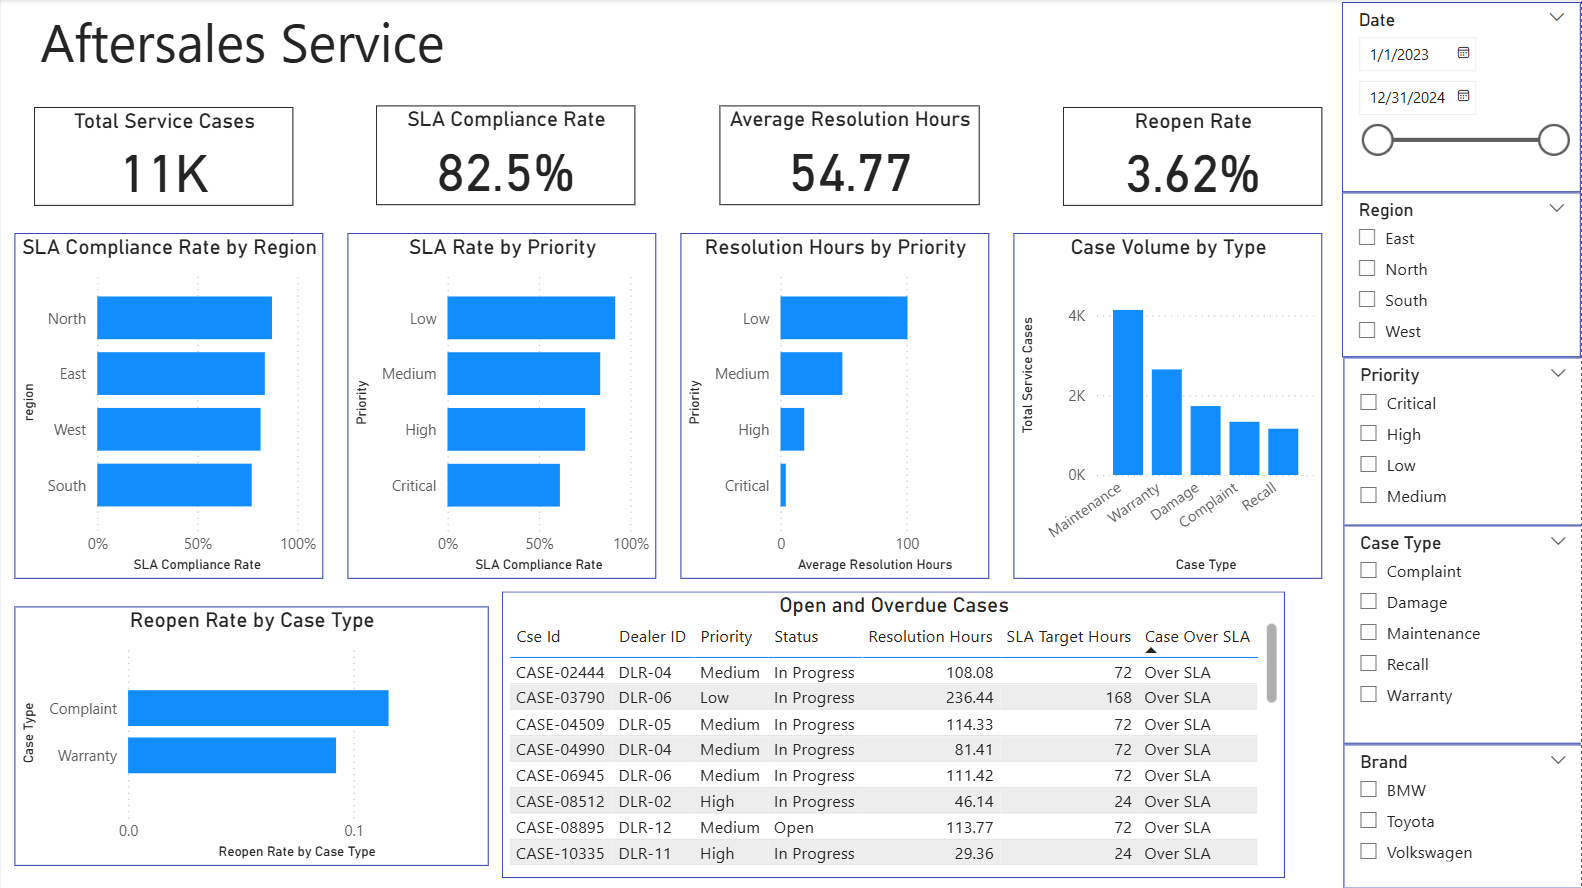

Layout of this report page (visuals, bound fields, positions):
{"tool":"powerbi","page":{"name":"Aftersales Service","canvas":[1280,720],"ordinal":2},"visuals":[{"type":"textbox","box":[26.7,0,408.2,70.5],"z":0},{"type":"card","title":"Total Service Cases","fields":{"Values":["fct_case_resolution.Total Service Cases"]},"box":[26.7,86.9,210,80],"z":1000},{"type":"card","title":"SLA Compliance Rate","fields":{"Values":["fct_case_resolution.SLA Compliance Rate"]},"box":[304.2,86.6,210,80.6],"z":2000},{"type":"card","title":"Average Resolution Hours","fields":{"Values":["fct_case_resolution.Average Resolution Hours"]},"box":[581.8,86.6,210.4,80.6],"z":3000},{"type":"card","title":"Reopen Rate","fields":{"Values":["fct_case_resolution.Reopen Rate"]},"box":[859.8,86.9,210,80],"z":4000},{"type":"barChart","title":"SLA Compliance Rate by Region","fields":{"Category":["raw_dim_dealer.region"],"Y":["fct_case_resolution.SLA Compliance Rate"]},"box":[10.8,190,250.1,280],"z":5000},{"type":"barChart","title":"SLA Rate by Priority","fields":{"Category":["fct_case_resolution.priority"],"Y":["fct_case_resolution.SLA Compliance Rate"]},"box":[280.5,190,250.1,280.1],"z":6000},{"type":"columnChart","title":"Case Volume by Type","fields":{"Category":["fct_case_resolution.case_type"],"Y":["fct_case_resolution.Total Service Cases"]},"box":[819.9,190,250.1,280],"z":7000},{"type":"barChart","title":"Resolution Hours by Priority","fields":{"Category":["fct_case_resolution.priority"],"Y":["fct_case_resolution.Average Resolution Hours"]},"box":[550.2,190,250.1,280],"z":8000},{"type":"barChart","title":"Reopen Rate by Case Type","fields":{"Y":["fct_case_resolution.Reopen Rate by Case Type"],"Category":["fct_case_resolution.case_type"]},"box":[10.9,492,383.9,210.2],"z":9000},{"type":"tableEx","title":"Open and Overdue Cases","fields":{"Values":["fct_case_resolution.case_id","fct_case_resolution.dealer_id","fct_case_resolution.priority","fct_case_resolution.status","fct_case_resolution.resolution_hours","fct_case_resolution.sla_target_hours","fct_case_resolution.Case Over SLA"]},"box":[405.7,479.9,634.1,232],"z":10000},{"type":"slicer","fields":{"Values":["raw_dim_date.full_date"]},"box":[1086,2.4,193.6,153.9],"z":11000},{"type":"slicer","fields":{"Values":["raw_dim_dealer.region"]},"box":[1085.6,156.7,193.6,133.5],"z":12000},{"type":"slicer","fields":{"Values":["fct_case_resolution.priority"]},"box":[1086.8,290.5,193.6,135.9],"z":13000},{"type":"slicer","fields":{"Values":["fct_case_resolution.case_type"]},"box":[1086.8,426.8,193.6,176.7],"z":14000},{"type":"slicer","fields":{"Values":["raw_dim_dealer.brand"]},"box":[1086.8,603.5,193.6,116.6],"z":15000}]}

Visuals, with their boxes in screenshot pixels (x1, y1, x2, y2), scaled from the page's 1280x720 canvas onto the 1582x888 screenshot:
textbox: pyautogui.locateOnScreen(33, 0, 538, 87)
"Total Service Cases" card: pyautogui.locateOnScreen(33, 107, 293, 206)
"SLA Compliance Rate" card: pyautogui.locateOnScreen(376, 107, 636, 206)
"Average Resolution Hours" card: pyautogui.locateOnScreen(719, 107, 979, 206)
"Reopen Rate" card: pyautogui.locateOnScreen(1063, 107, 1322, 206)
"SLA Compliance Rate by Region" barChart: pyautogui.locateOnScreen(13, 234, 322, 580)
"SLA Rate by Priority" barChart: pyautogui.locateOnScreen(347, 234, 656, 580)
"Case Volume by Type" columnChart: pyautogui.locateOnScreen(1013, 234, 1322, 580)
"Resolution Hours by Priority" barChart: pyautogui.locateOnScreen(680, 234, 989, 580)
"Reopen Rate by Case Type" barChart: pyautogui.locateOnScreen(13, 607, 488, 866)
"Open and Overdue Cases" tableEx: pyautogui.locateOnScreen(501, 592, 1285, 878)
slicer - raw_dim_date.full_date: pyautogui.locateOnScreen(1342, 3, 1581, 193)
slicer - raw_dim_dealer.region: pyautogui.locateOnScreen(1342, 193, 1581, 358)
slicer - fct_case_resolution.priority: pyautogui.locateOnScreen(1343, 358, 1581, 526)
slicer - fct_case_resolution.case_type: pyautogui.locateOnScreen(1343, 526, 1581, 744)
slicer - raw_dim_dealer.brand: pyautogui.locateOnScreen(1343, 744, 1581, 887)
